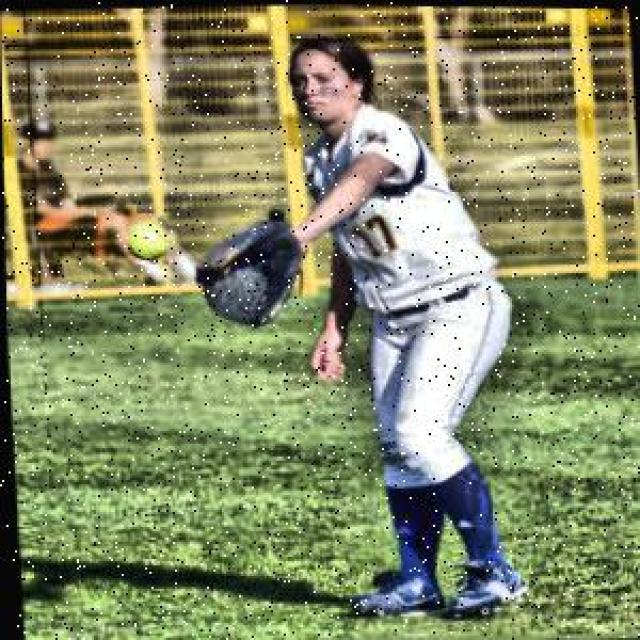tennis-ball: (128, 216, 177, 268)
